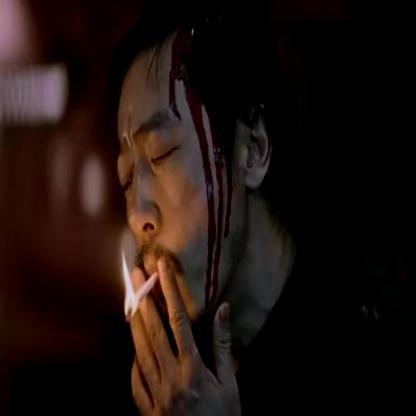cigarette: (124, 270, 160, 320)
person: (99, 4, 415, 415)
